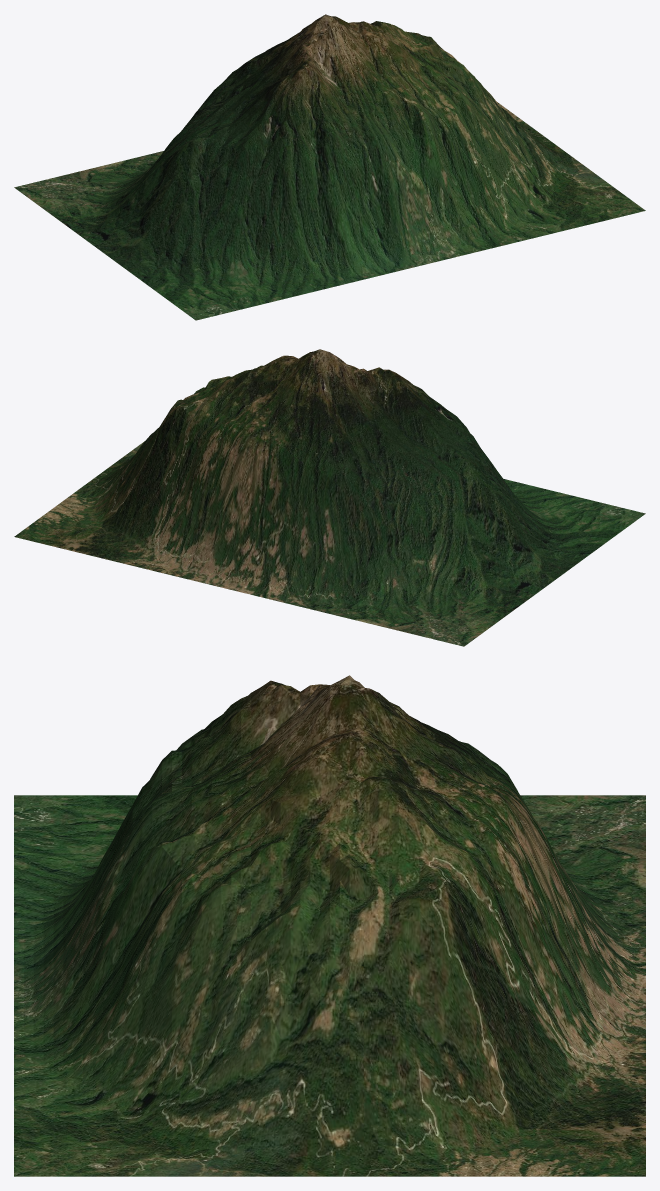
3 views of the same model, one above another, from view 1: azimuth 30°, elevation 25°; view 2: azimuth 150°, elevation 25°; view 3: azimuth 270°, elevation 25° (orthographic). The views are drawn at different scales.
Parts seen in each view (by area): view 1: EXPORT_ESRI_AERIAL_WM; view 2: EXPORT_ESRI_AERIAL_WM; view 3: EXPORT_ESRI_AERIAL_WM.
Boxes of the visible parts, x1=… form: EXPORT_ESRI_AERIAL_WM: x1=14, y1=14, x2=645, y2=320; EXPORT_ESRI_AERIAL_WM: x1=14, y1=349, x2=645, y2=646; EXPORT_ESRI_AERIAL_WM: x1=14, y1=675, x2=645, y2=1176.
Size of the model in its own units: 12230 by 4644 by 8561.
4 materials, 4 textured.
